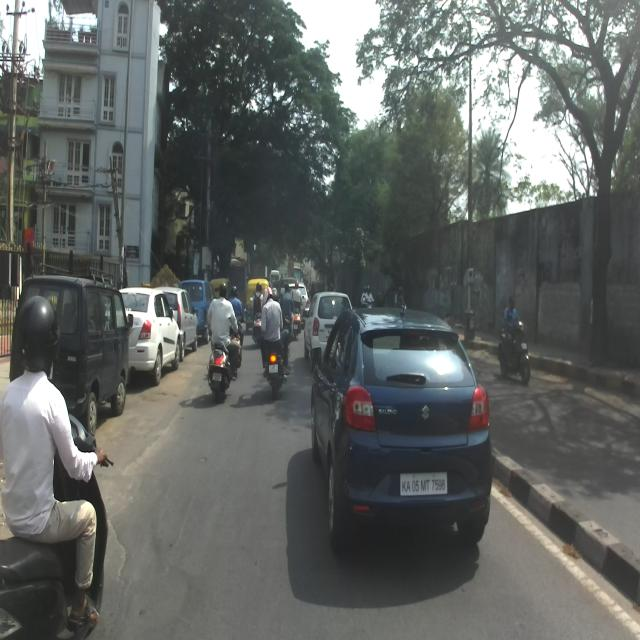car ahead at: (314, 309, 498, 558), (124, 289, 184, 385)
motorcycle ahead at: (0, 407, 114, 640), (203, 338, 234, 401)
